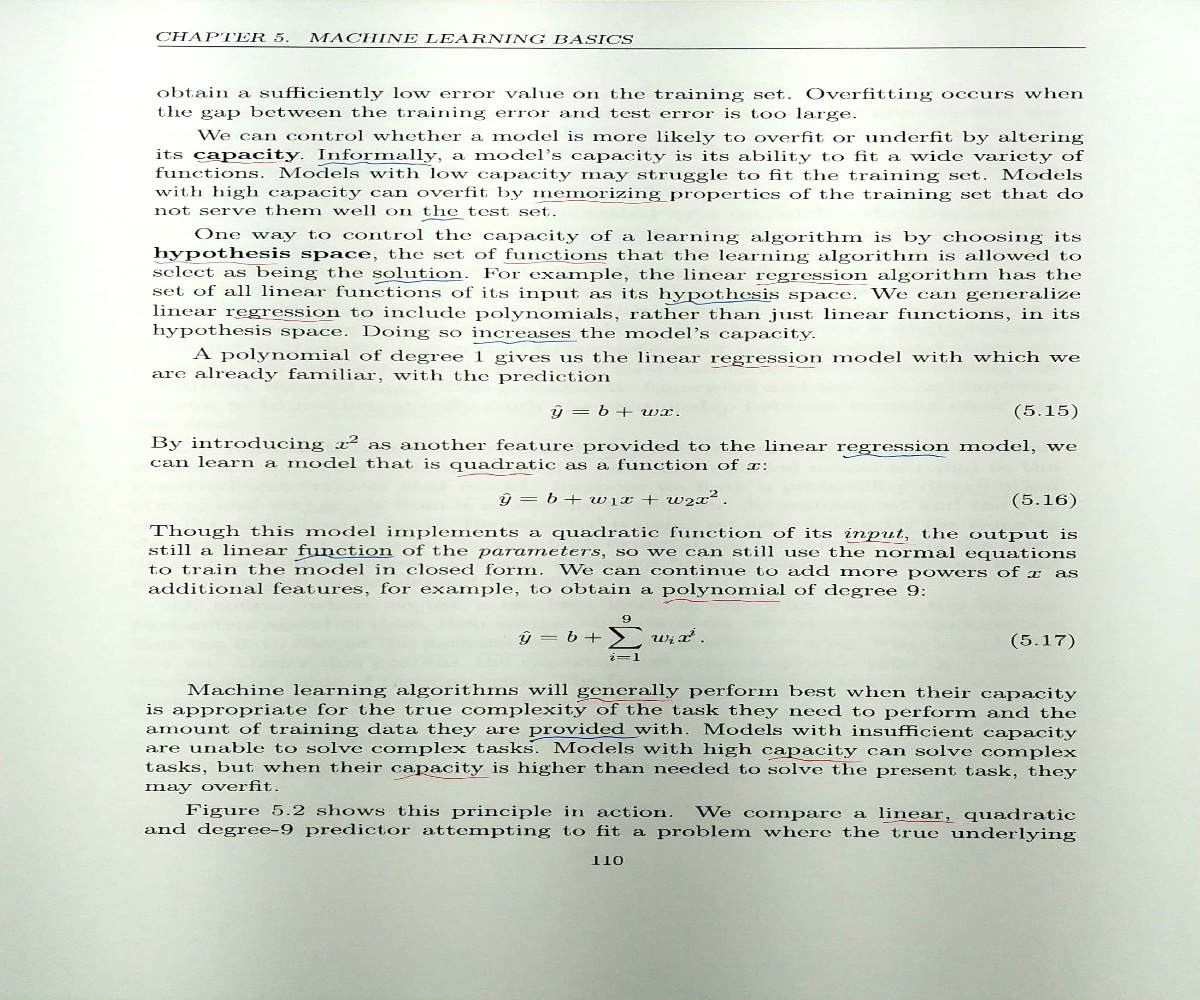underline: (151, 257, 277, 268), (661, 595, 782, 606), (531, 198, 669, 207), (757, 278, 867, 288), (294, 553, 393, 564), (392, 772, 491, 783), (527, 734, 642, 743), (765, 755, 864, 765), (840, 451, 945, 460), (316, 160, 432, 168), (657, 298, 773, 306), (501, 257, 608, 265), (455, 470, 532, 481), (229, 315, 333, 323), (706, 363, 821, 370), (574, 695, 673, 703), (372, 277, 466, 285), (195, 158, 291, 165), (882, 816, 956, 825), (846, 538, 911, 548), (472, 339, 579, 345), (417, 215, 466, 223)
